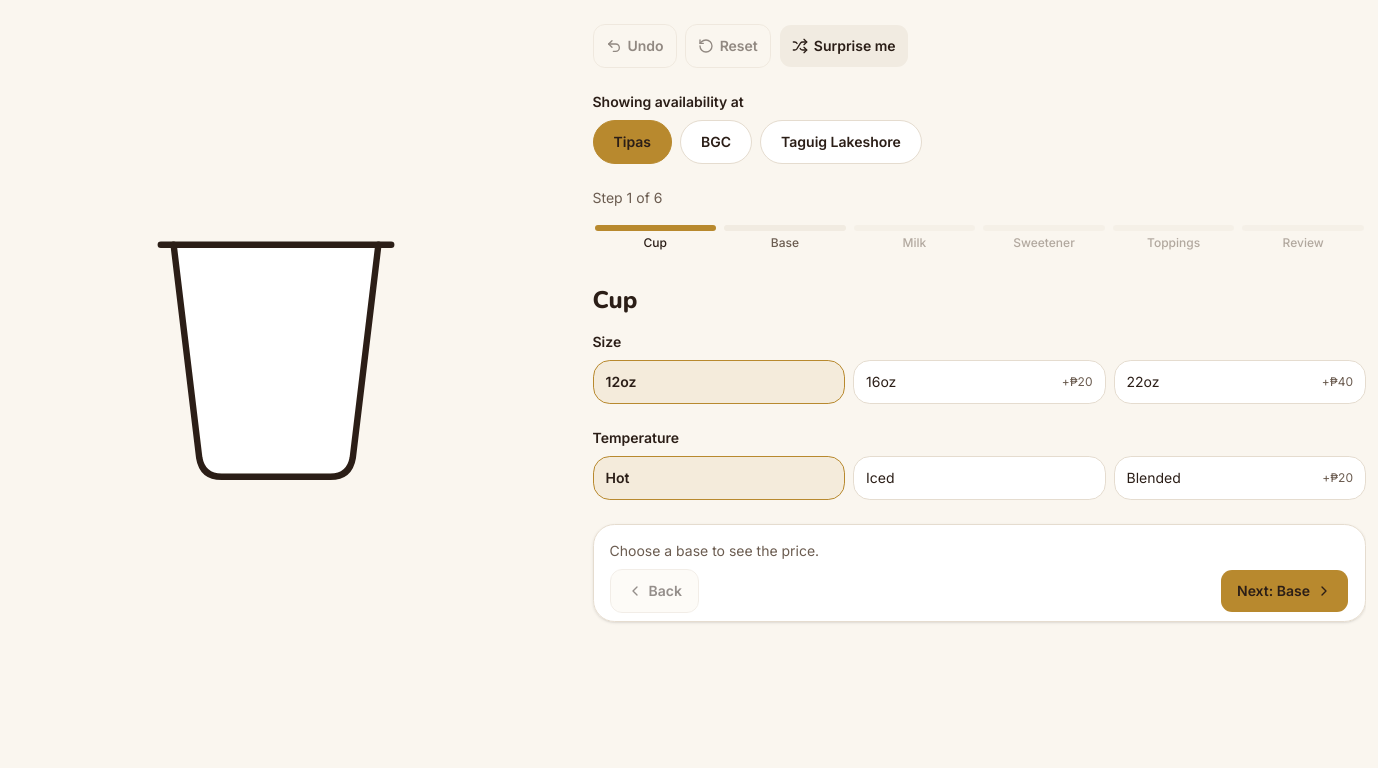
Scenario: CoffeeBuilder › never serves Cold Brew hot
Step 1. Click the button "Next: Base" → (1284, 591), box x1=1220 y1=569 x2=1349 y2=613
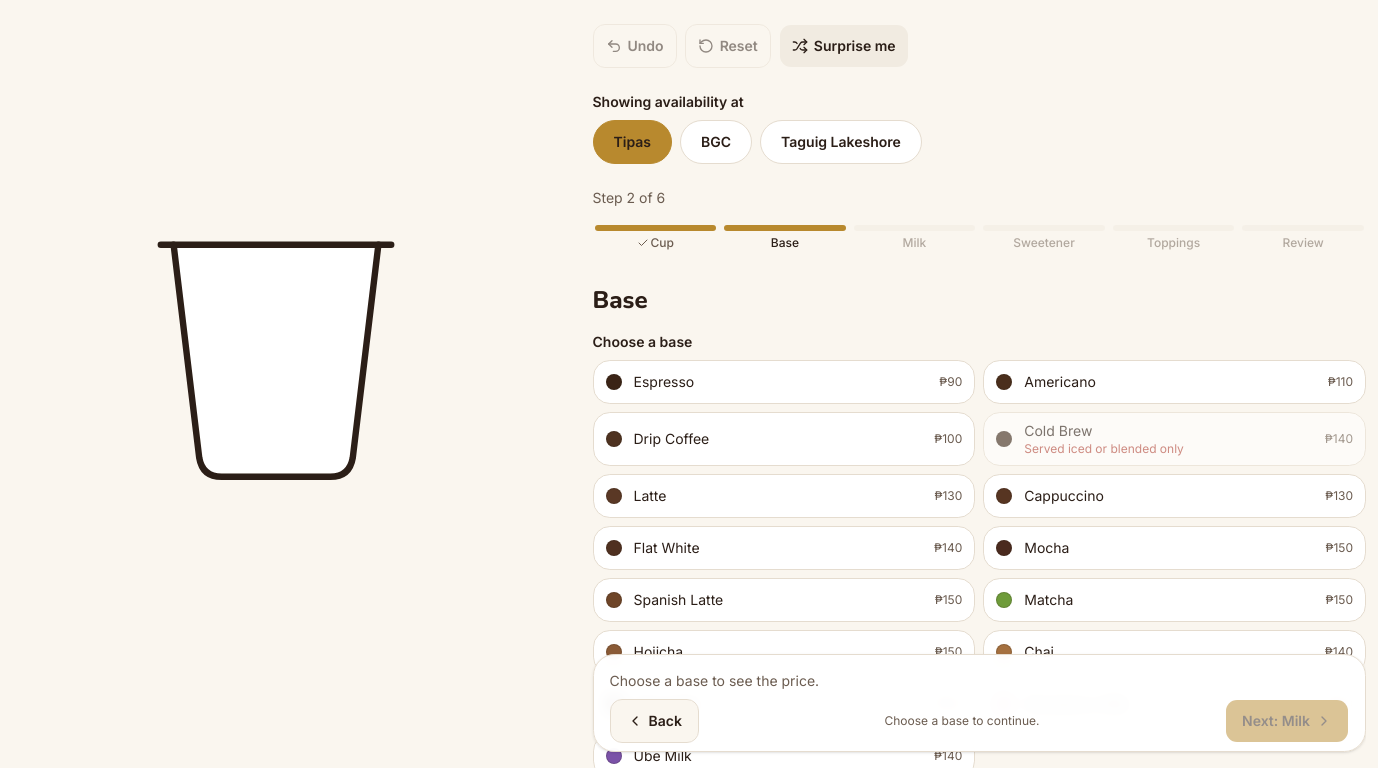
expect the radio button labelled "Cold Brew Served iced or blended only ₱140" is disabled: met, box x1=983 y1=412 x2=1366 y2=466
expect the radio button labelled "Cold Brew Served iced or blended only ₱140" is shown: met, box x1=983 y1=412 x2=1366 y2=466
Step 2. Click the button "Cup" → (655, 238), box x1=592 y1=216 x2=718 y2=260
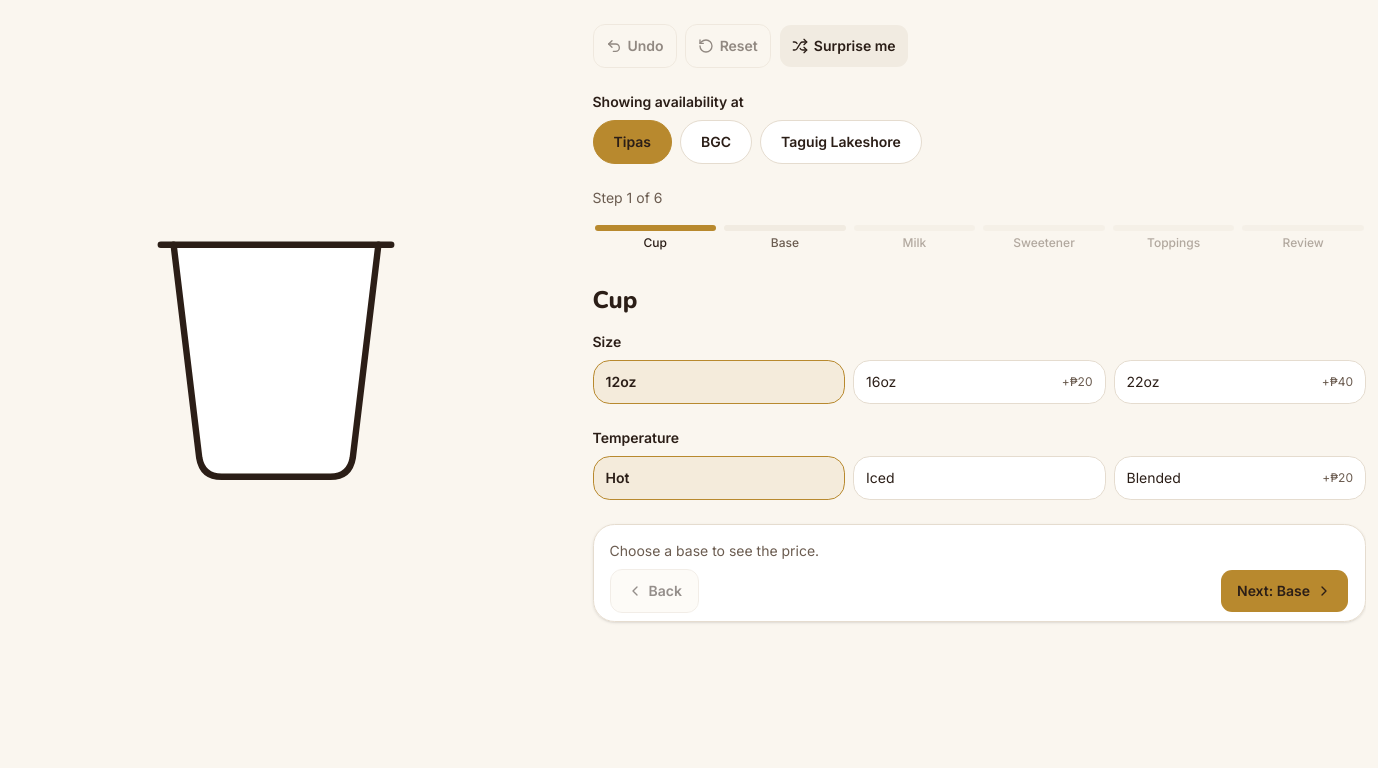
Step 3. Click the radio button labelled "Iced" → (979, 478), box x1=853 y1=456 x2=1106 y2=500
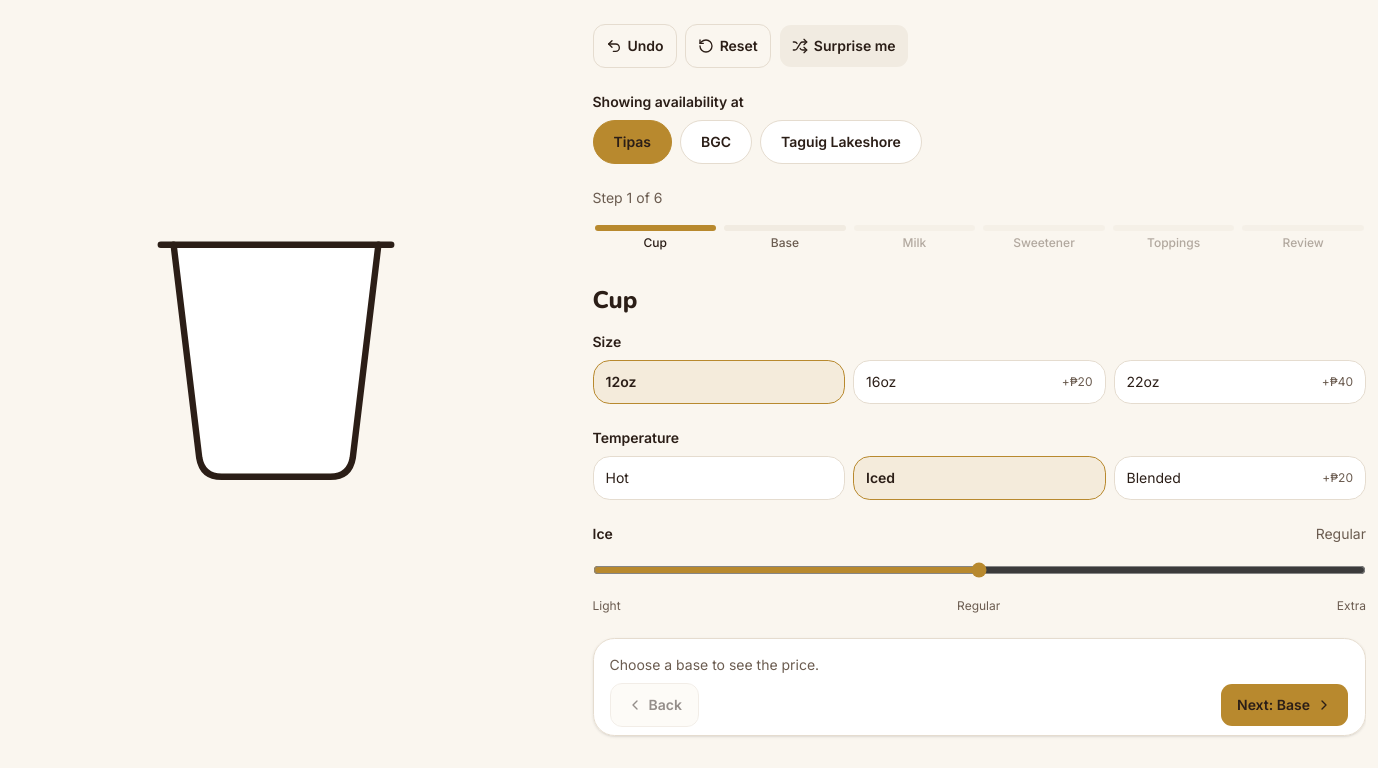
Step 4. Click the button "Next: Base" → (1284, 705), box x1=1220 y1=683 x2=1349 y2=727
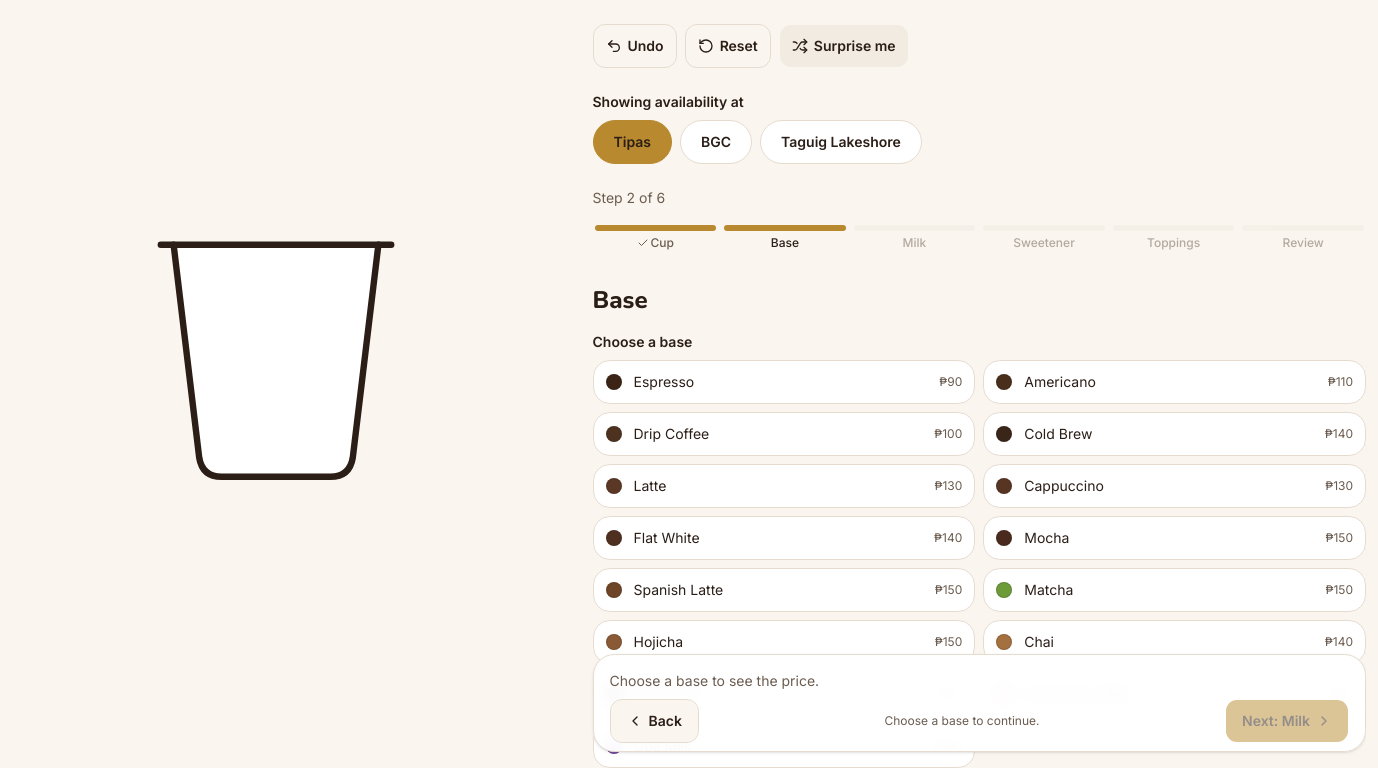
Step 5. Click the radio button labelled "Cold Brew ₱140" → (1058, 434), box x1=983 y1=412 x2=1366 y2=456
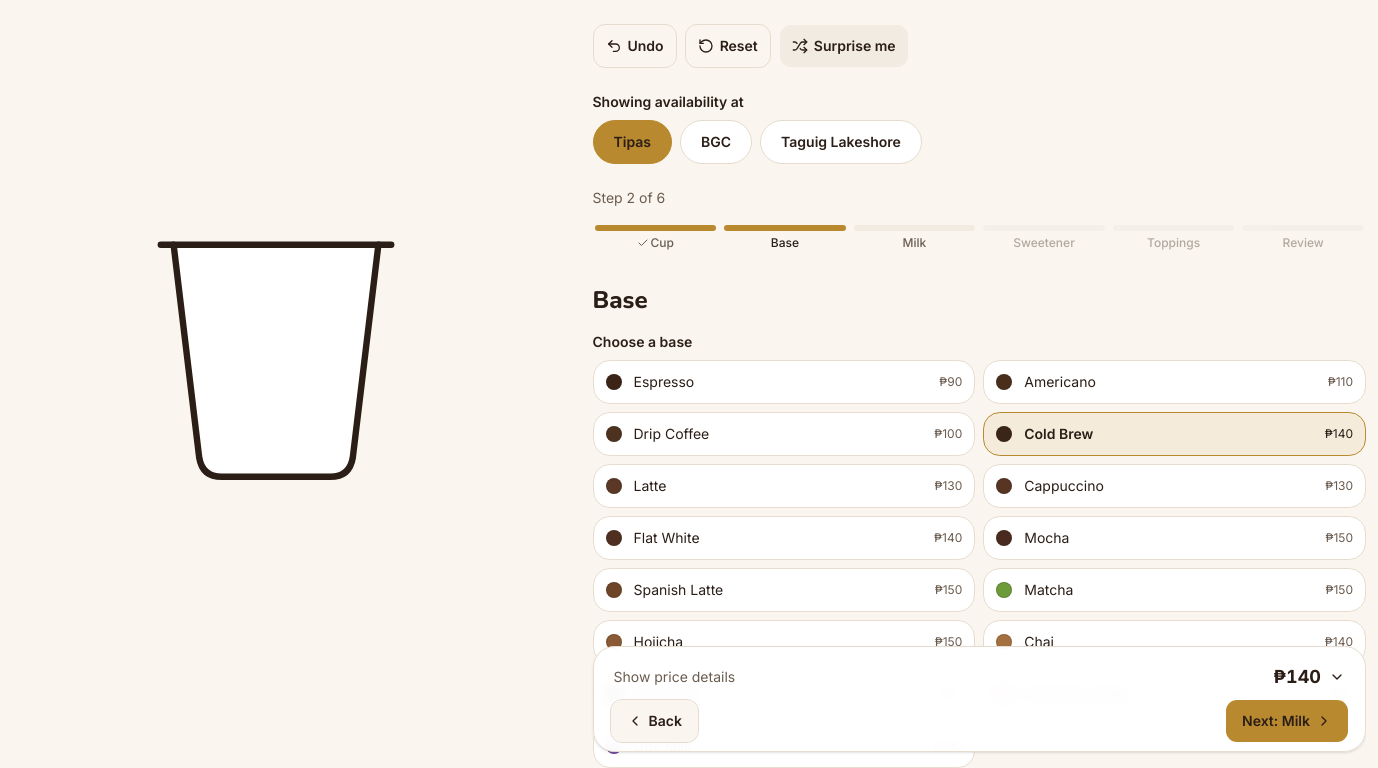
Step 6. Click the button "Cup" → (655, 238), box x1=592 y1=216 x2=718 y2=260
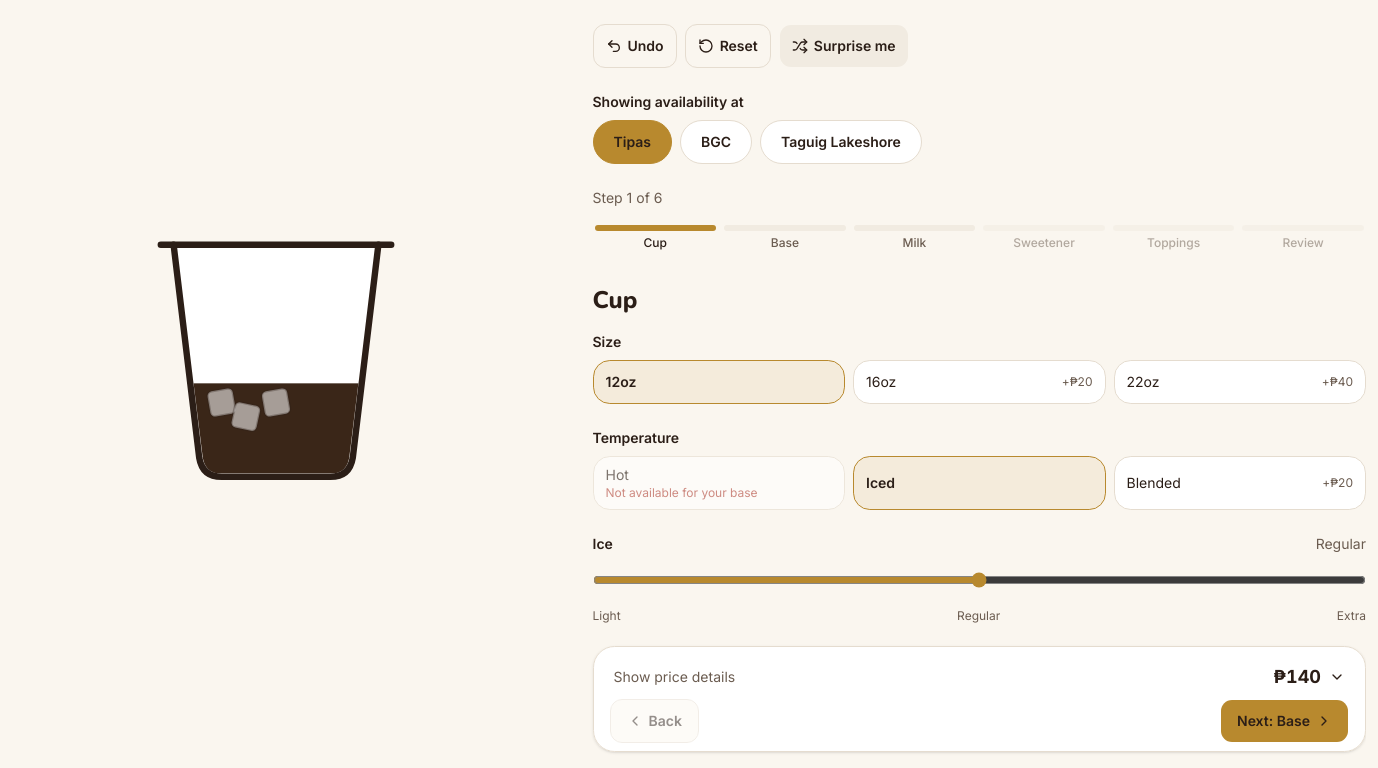
expect the radio button labelled "Hot Not available for your base" is disabled: met, box x1=592 y1=456 x2=845 y2=510
